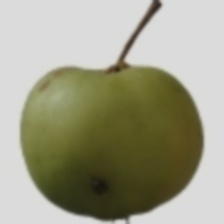apple: (14, 33, 207, 196)
